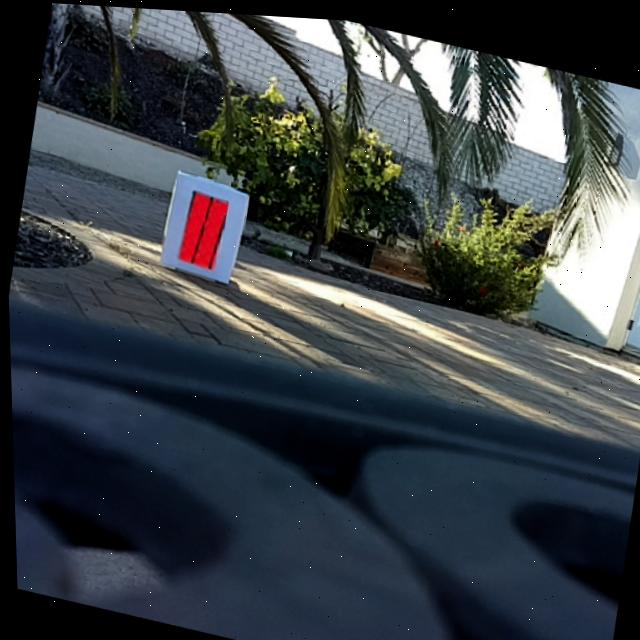led: (174, 183, 231, 271)
